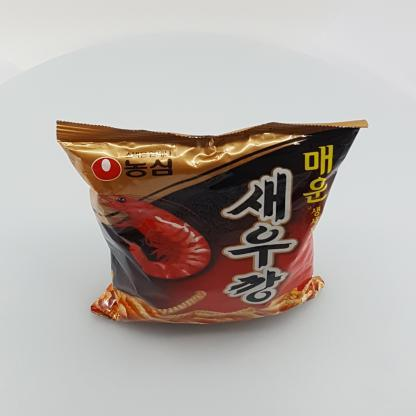Plastic Packaging: (48, 112, 376, 336)
